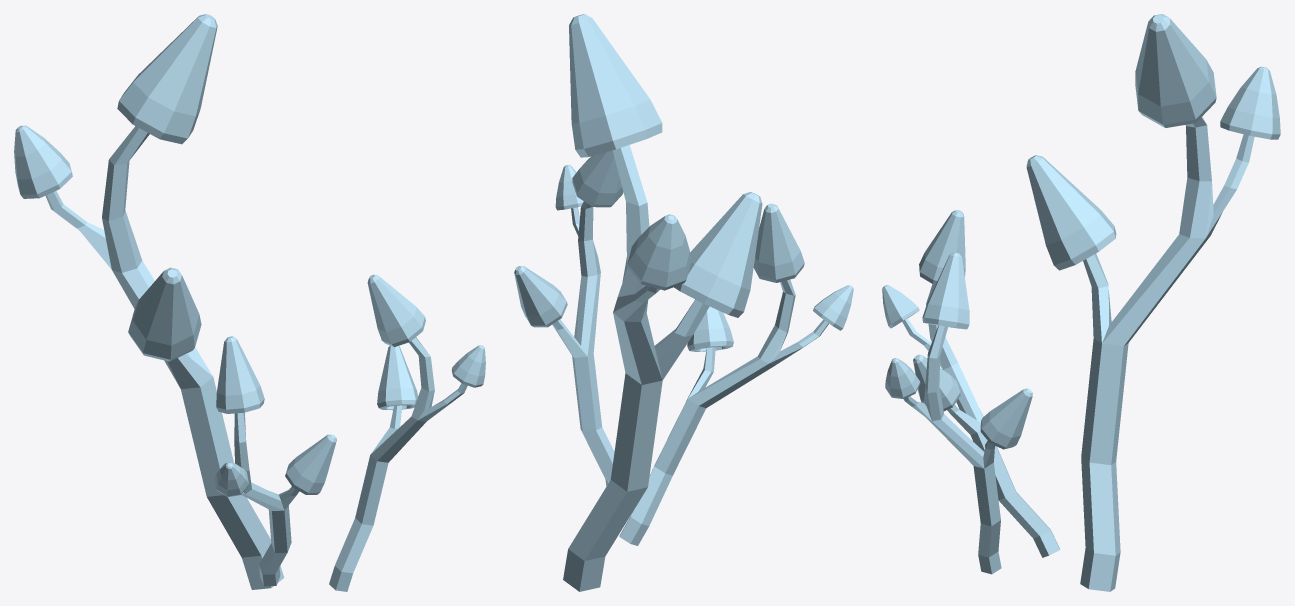
File: Mushrooms_10.fbx
3 views of the same model, side by side, from view 1: azimuth 30°, elevation 25°; view 2: azimuth 150°, elevation 25°; view 3: azimuth 270°, elevation 25° (orthographic). The views are drawn at different scales.
Visible parts, largest first — view 1: Mushrooms_10; view 2: Mushrooms_10; view 3: Mushrooms_10.
Boxes of the visible parts, box(x1,y1,x2,y2) form: Mushrooms_10: box(14, 14, 485, 591); Mushrooms_10: box(514, 14, 853, 591); Mushrooms_10: box(882, 14, 1280, 591).
Size of the model in its own units: 0.7031 by 0.8222 by 1.28.
